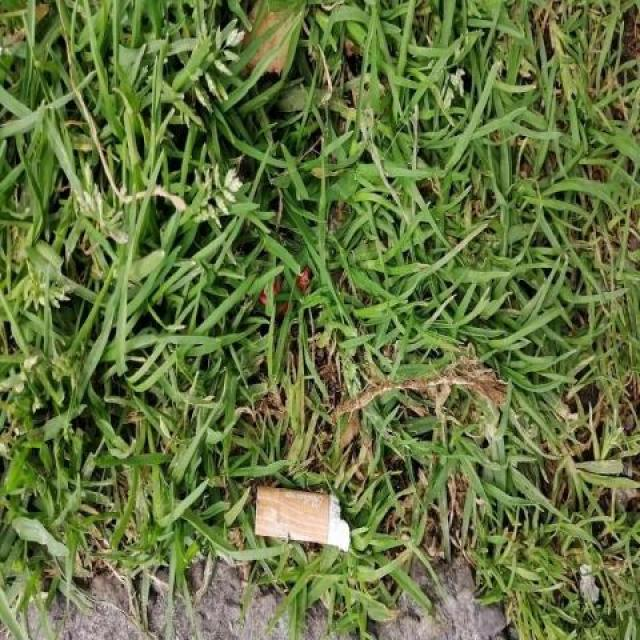non-organic waste: (250, 482, 351, 554)
